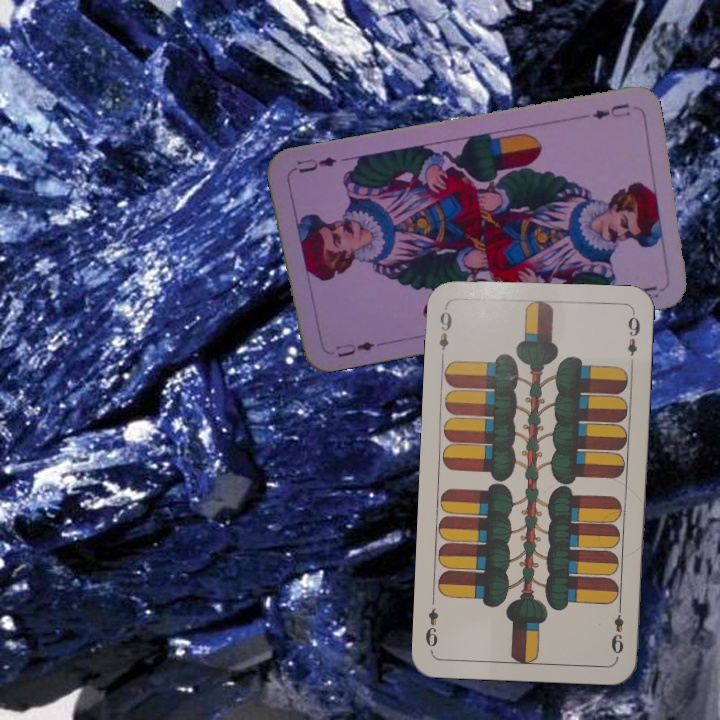E9: (435, 303, 454, 362), (607, 600, 627, 656)
EU: (331, 337, 377, 360), (588, 99, 633, 122)
